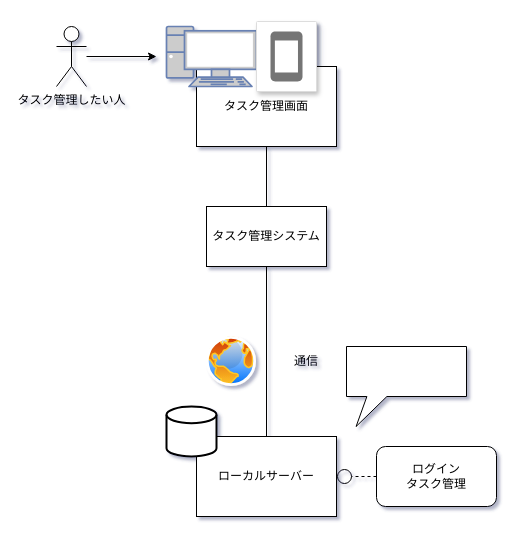
The diagram is 520 pixels wide and 540 high, and some of its shapes have lost their labels. The centre of each missing label's shape, as x and y in pixels:
"Phone" belongs at point (287, 57).
"最初はローカルに保存" belongs at point (406, 386).
